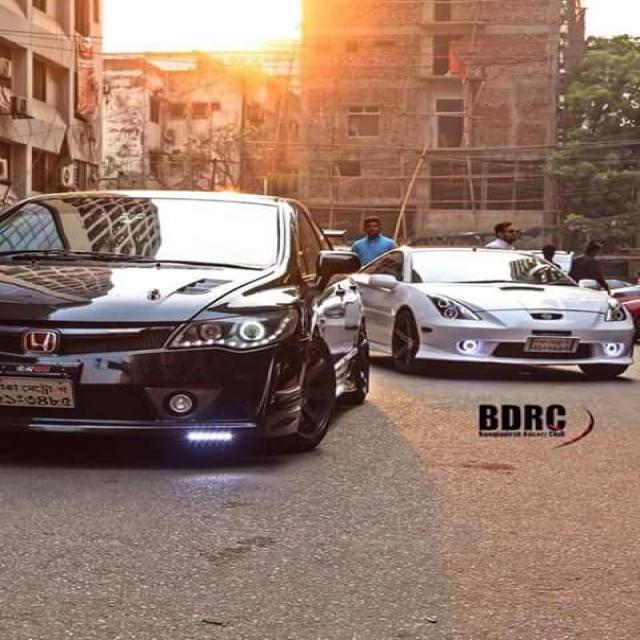numberplate: (0, 373, 76, 409), (521, 334, 579, 353)
